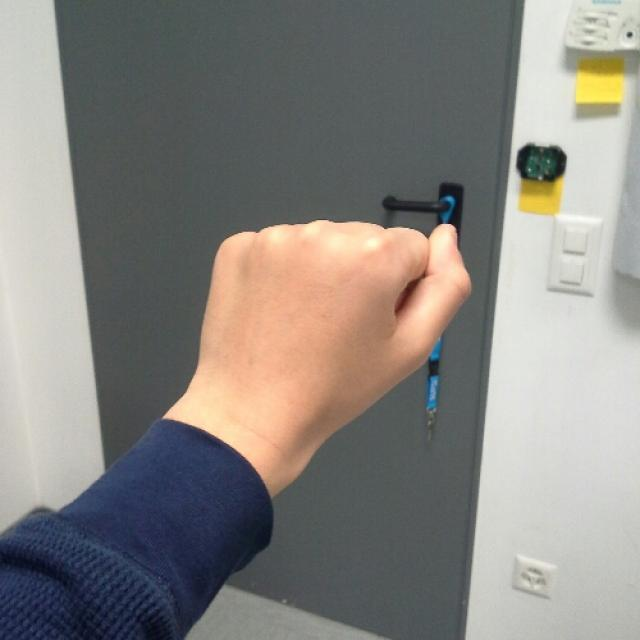rock: (215, 216, 477, 410)
